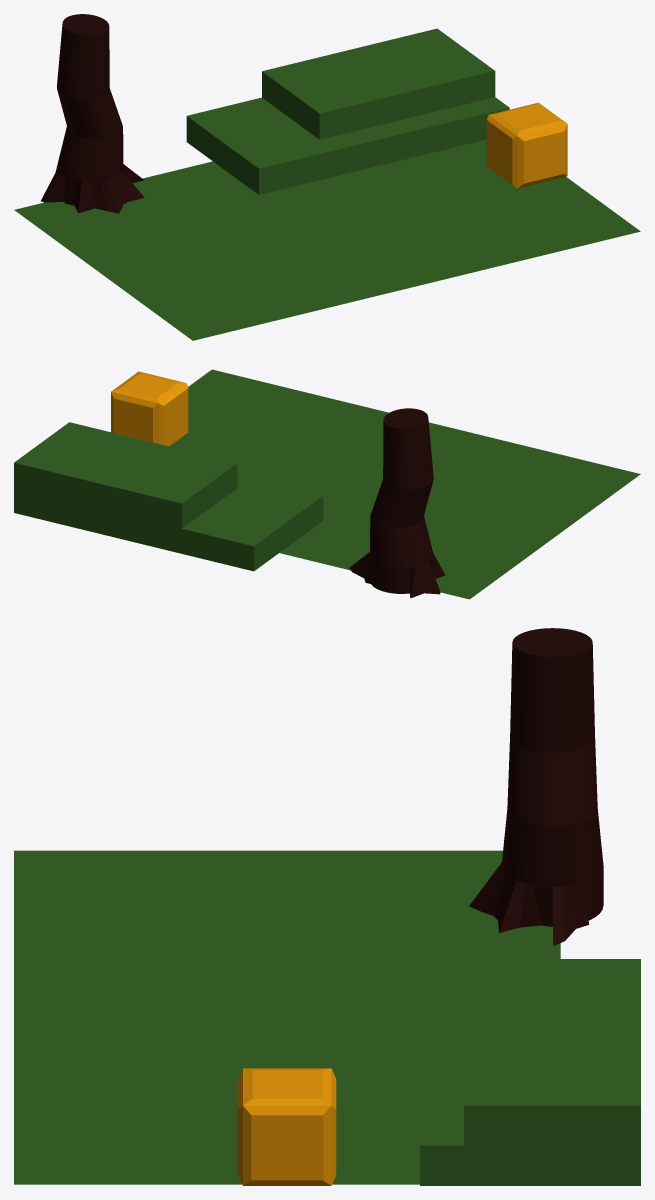
File: Forest Level 1.gltf
3 renders of one model, top to bottom at view 1: azimuth 30°, elevation 25°; view 2: azimuth 150°, elevation 25°; view 3: azimuth 270°, elevation 25°, orthographic. The views are drawn at different scales.
Parts seen in each view (by area): view 1: Floor, Step 2, Step, Tree, Block; view 2: Floor, Step 2, Step, Tree, Block; view 3: Floor, Step 2, Tree, Step, Block.
Boxes of the visible parts, x1,y1,x2,y2 form: Floor: [14, 139, 640, 340]; Step 2: [262, 28, 495, 139]; Step: [186, 97, 509, 194]; Tree: [41, 14, 144, 213]; Block: [486, 102, 567, 188]; Floor: [169, 369, 640, 599]; Step 2: [14, 422, 237, 528]; Step: [14, 474, 323, 571]; Tree: [349, 408, 445, 598]; Block: [111, 371, 188, 446]; Floor: [14, 850, 560, 1184]; Step 2: [464, 975, 640, 1145]; Tree: [469, 628, 603, 945]; Step: [420, 959, 640, 1185]; Block: [237, 1068, 336, 1185].
Size of the model in its own units: 18.05 by 6.56 by 14.18.
